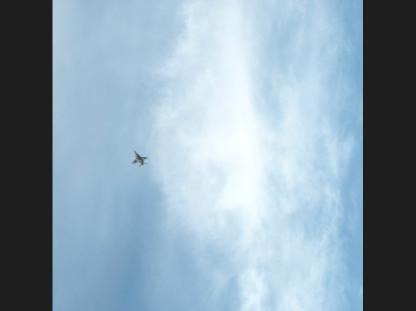F15: (131, 148, 148, 166)
